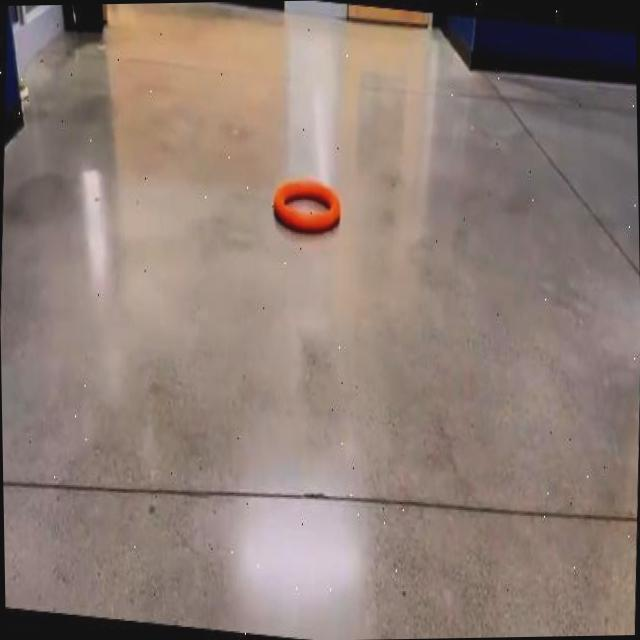note: (274, 178, 339, 230)
